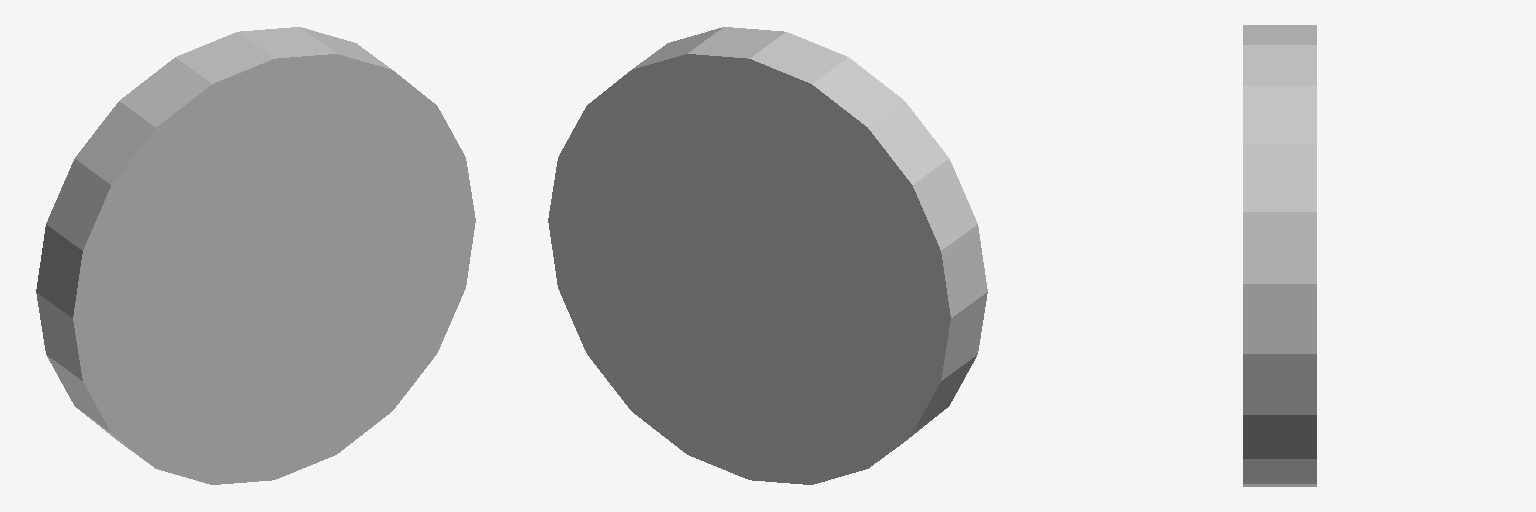
The model's file is Puck.obj.
The picture shows the model from 3 angles: view 1: azimuth 30°, elevation 25°; view 2: azimuth 150°, elevation 25°; view 3: azimuth 270°, elevation 25°; orthographic projection.
Parts seen in each view (by area): view 1: Puck1; view 2: Puck1; view 3: Puck1.
Boxes of the visible parts, <box> form: Puck1: <box>36,27,475,484</box>; Puck1: <box>548,27,987,484</box>; Puck1: <box>1243,25,1316,486</box>.
Size of the model in its own units: 1.1 by 1.1 by 0.1738.